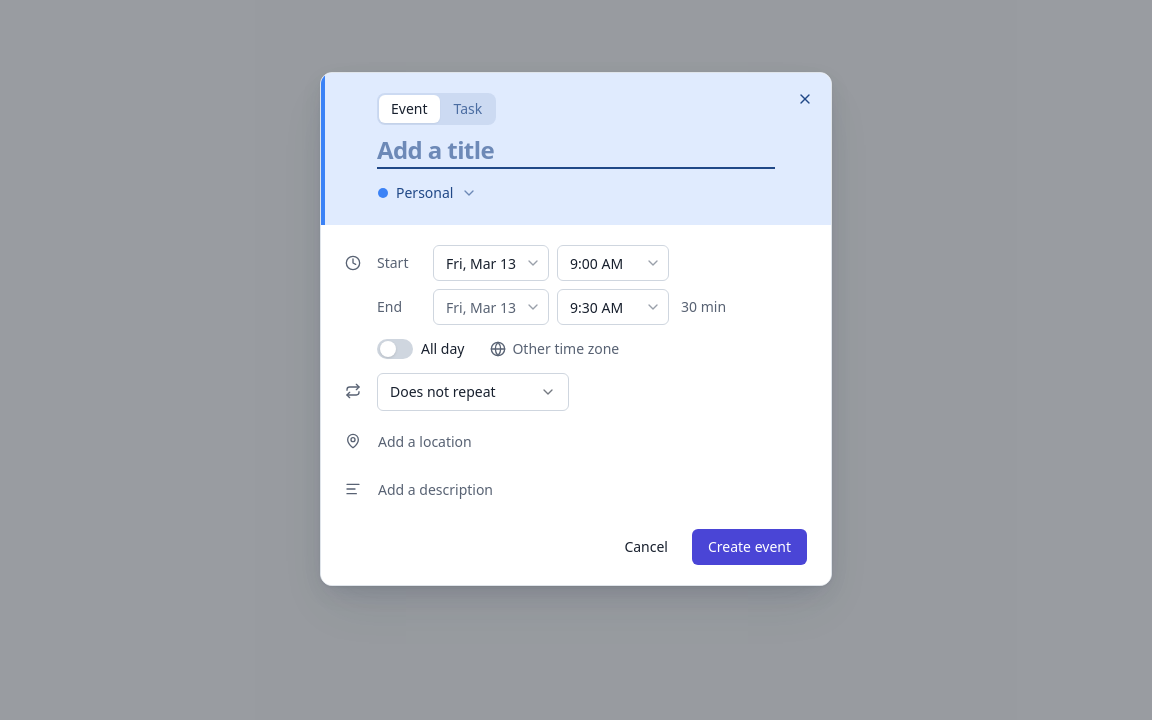
it: EditorDialog › a switch with a date its field could not read › names the repeat presets of the event after its end
Click the radio button "Task" at [468, 109], box [442,95,494,123]
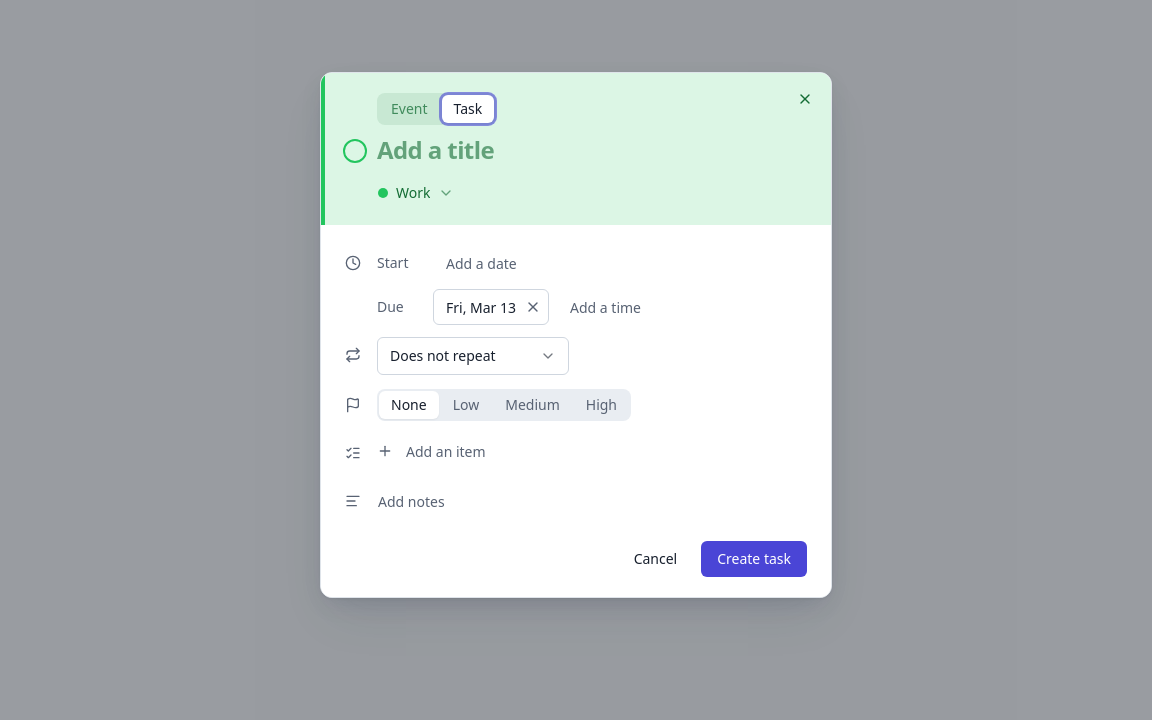
Click the dropdown labelled "Due" at [491, 307], box [433,289,549,325]
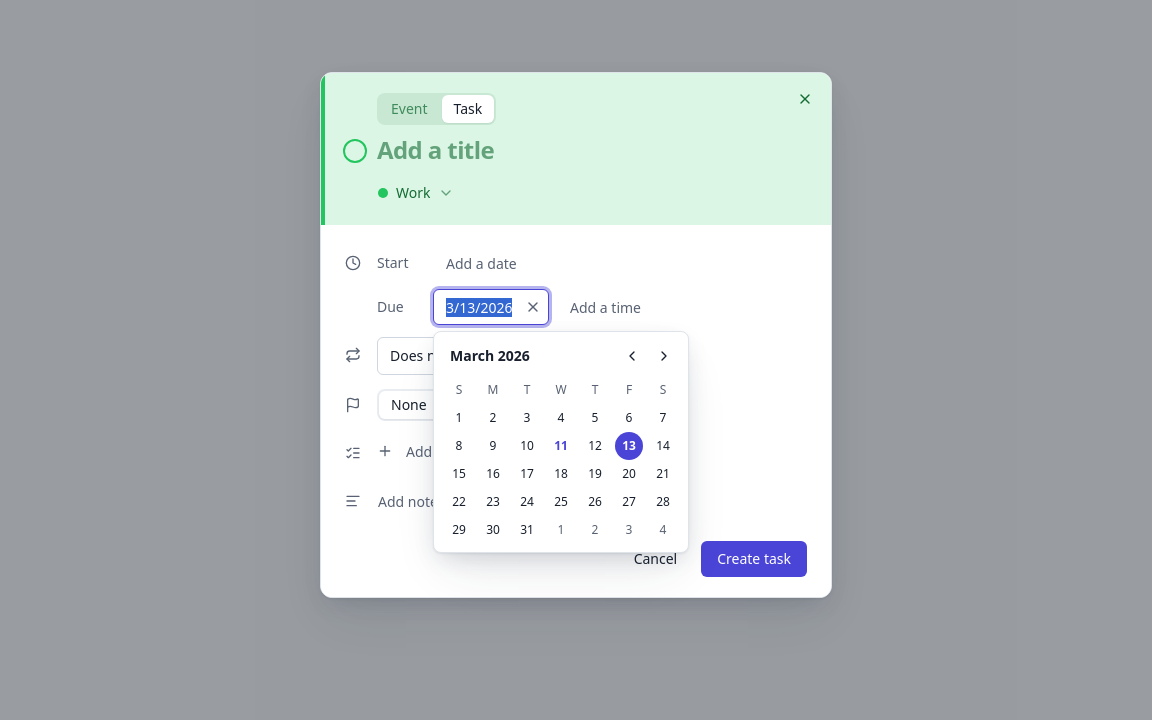
Type keys "13/45"
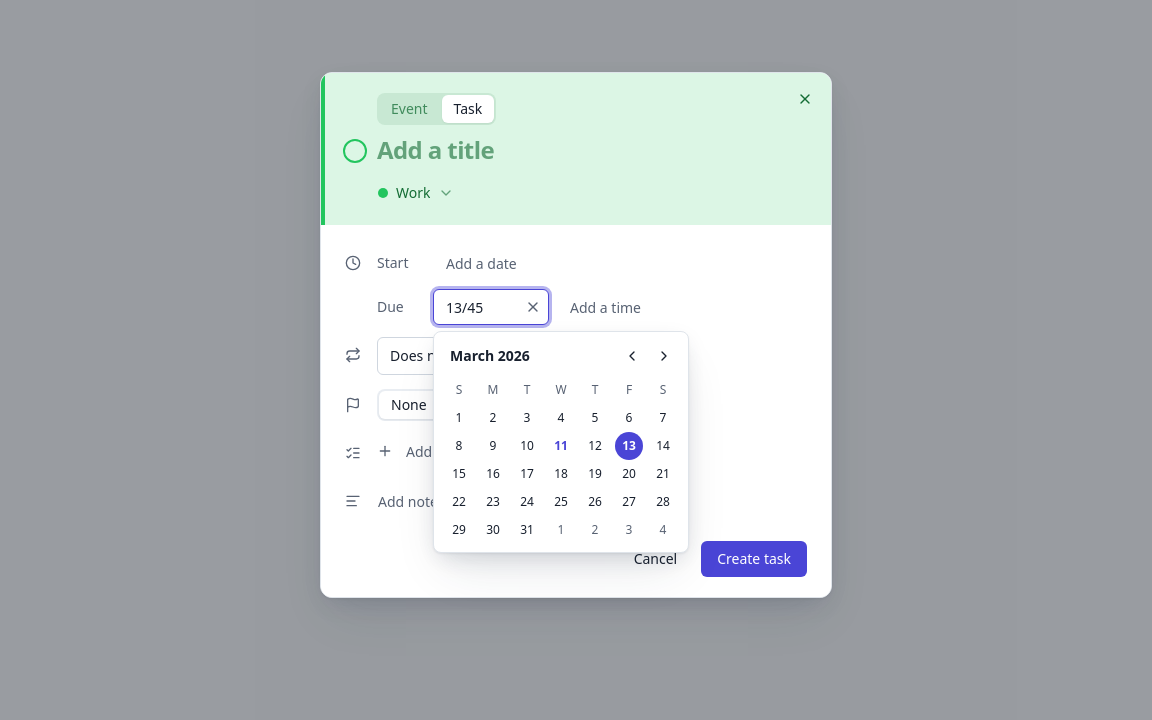
Press Tab
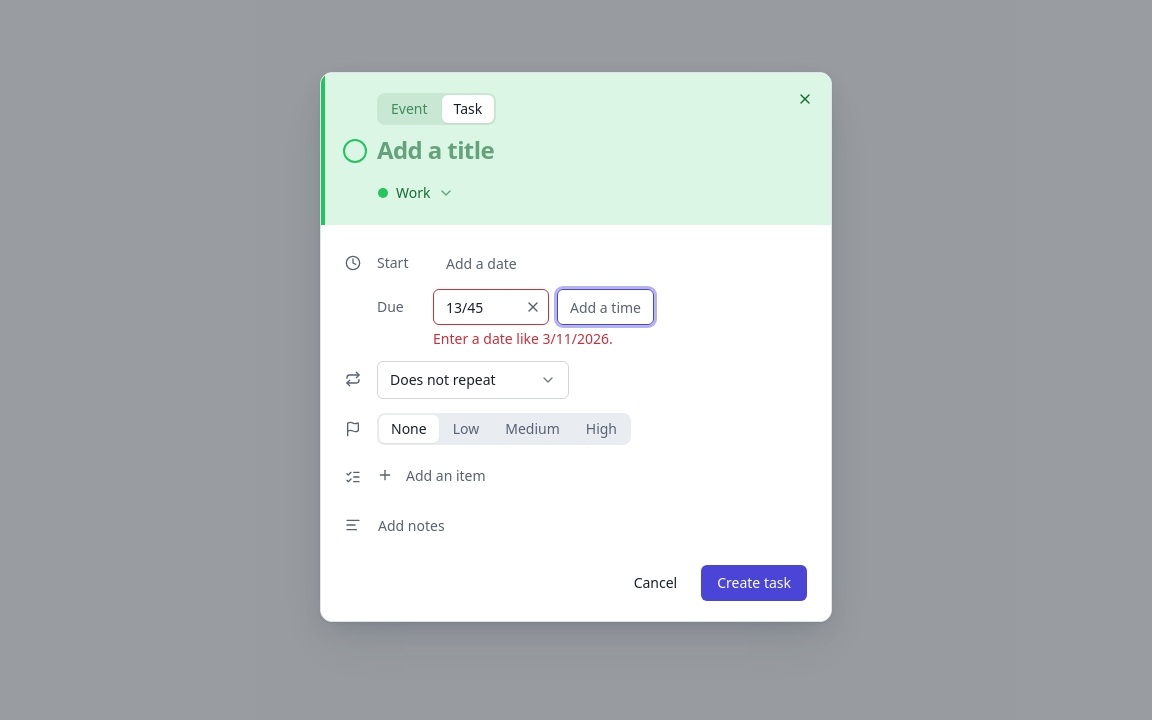
Click the radio button "Event" at [409, 109], box [379,95,440,123]
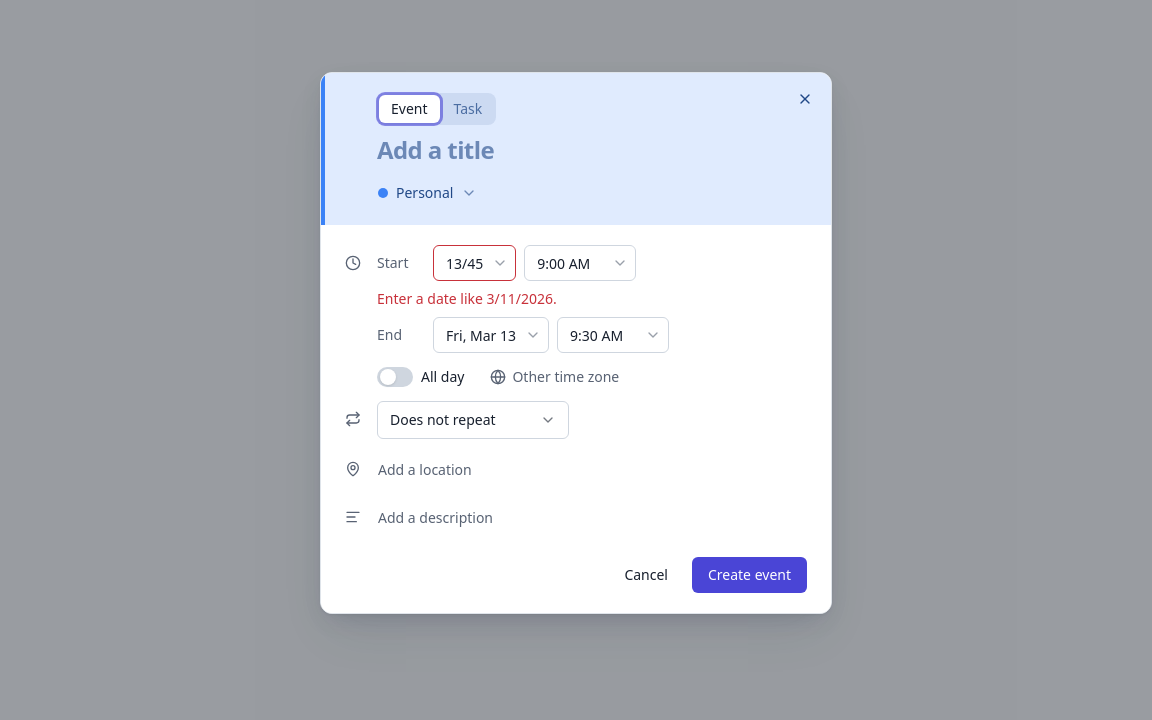
Expected: the dropdown labelled "Start" holds "13/45", [433,245,516,281]
Expected: the dropdown labelled "End" holds "Fri, Mar 13", [433,317,549,353]
Click the dropdown labelled "repeat" at [473, 420], box [377,401,569,439]
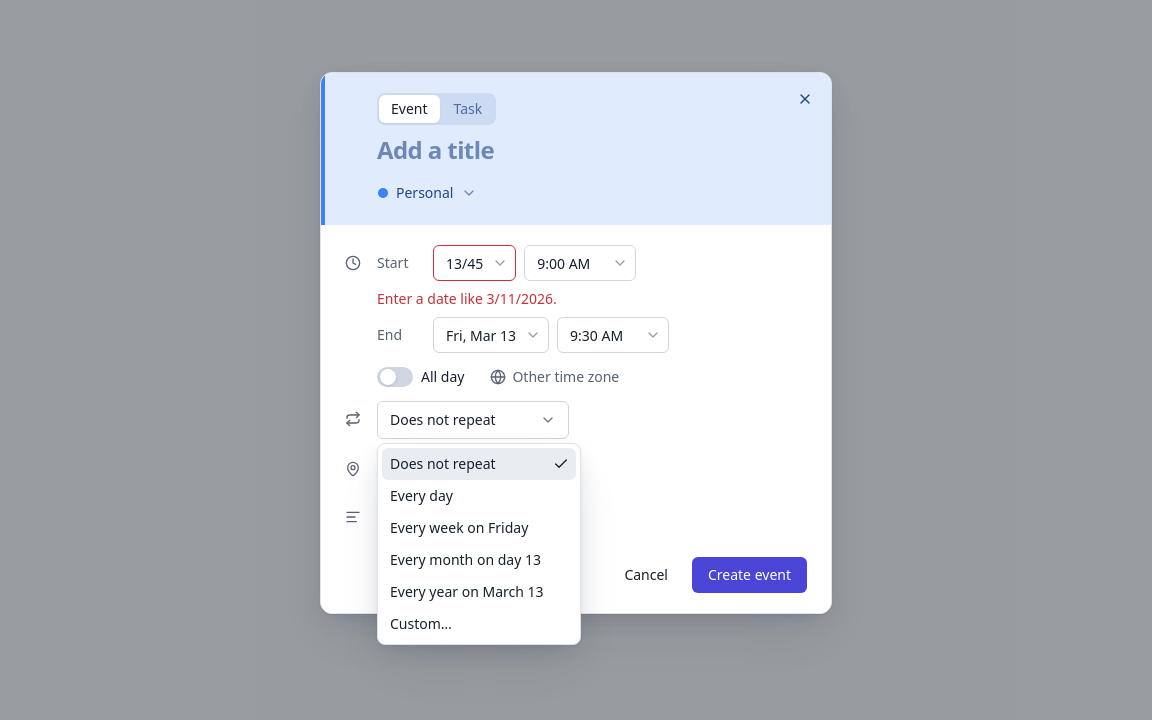
Expected: the option "Every week on Friday" is shown, [390,518,528,537]
